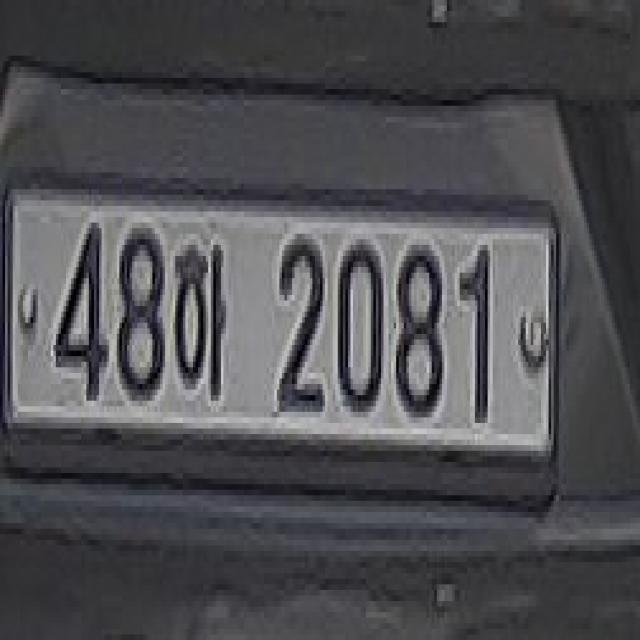0: (331, 232, 388, 428)
1: (451, 238, 498, 426)
2: (270, 224, 328, 446)
4: (46, 212, 110, 415)
8: (112, 218, 170, 411), (394, 230, 448, 428)
ha: (170, 232, 234, 422)
license_plate: (3, 162, 570, 490)
